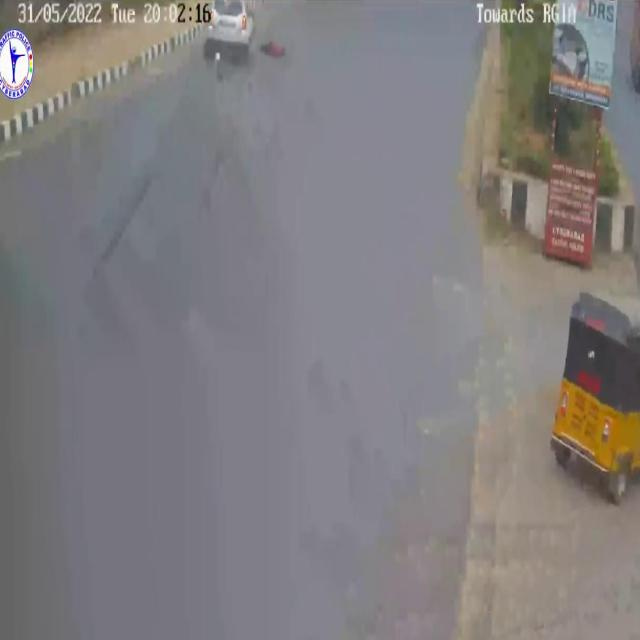accident: (195, 0, 289, 92)
